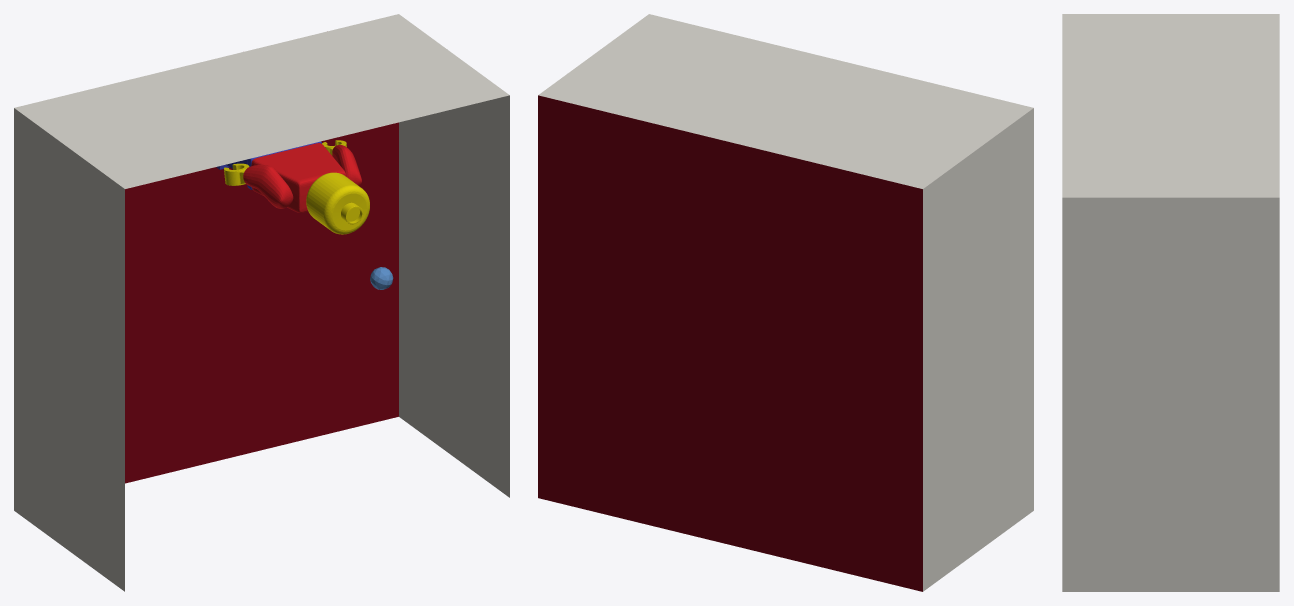
The model's file is LegoRoomFine.obj.
3 renders of one model, left to right at view 1: azimuth 30°, elevation 25°; view 2: azimuth 150°, elevation 25°; view 3: azimuth 270°, elevation 25°, orthographic. The views are drawn at different scales.
Parts seen in each view (by area): view 1: Object.1, Object.2, Object.3, Object.4, Object.5; view 2: Object.1, Object.2, Object.3; view 3: Object.4, Object.3.
Part boxes in pixels (box(x1,y1,x2,y2)): Object.1: box(125, 122, 398, 483); Object.2: box(14, 108, 124, 591); Object.3: box(14, 14, 509, 188); Object.4: box(399, 95, 509, 497); Object.5: box(216, 140, 369, 234); Object.1: box(538, 95, 922, 591); Object.2: box(923, 108, 1033, 591); Object.3: box(538, 14, 1033, 188); Object.4: box(1062, 197, 1279, 591); Object.3: box(1062, 14, 1279, 197).
Size of the model in its own units: 600 by 600 by 300.
